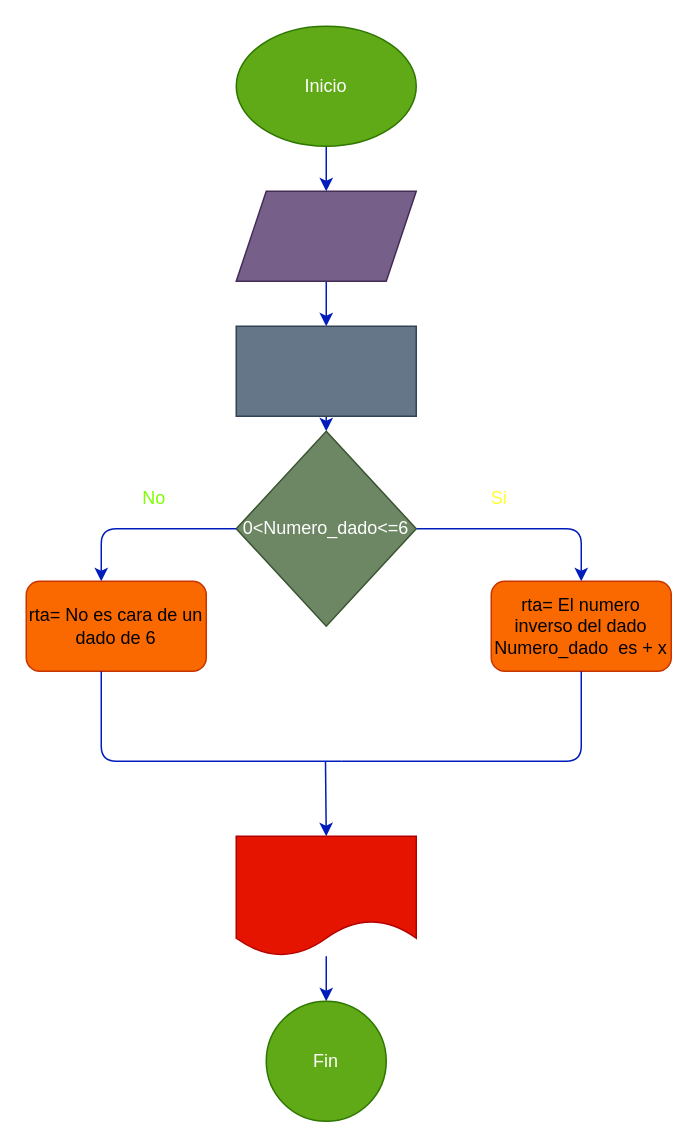
Image size: 698x1148. Some labels were removed from this diagram. The centre of each missing label's shape, as x and y in pixels:
"Numero_dado" goes at point (325, 235).
"rta" goes at point (325, 895).
"x = 7 - Numero_dado" goes at point (325, 370).
